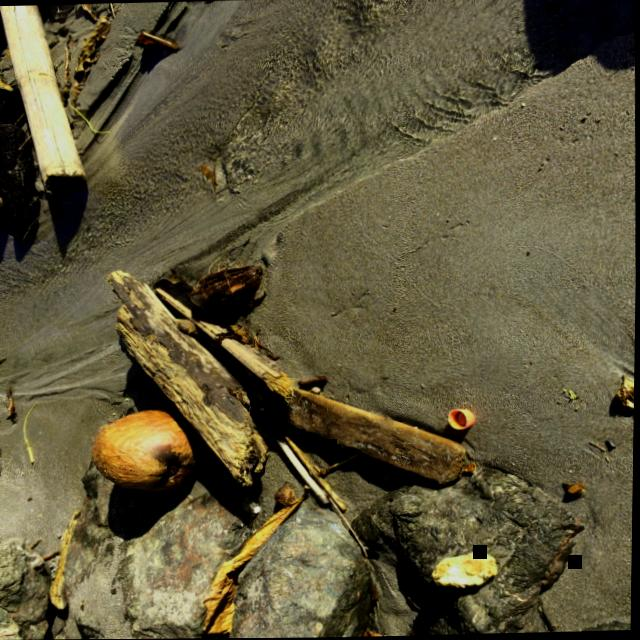Plastic bottle cap: (448, 409, 475, 430)
